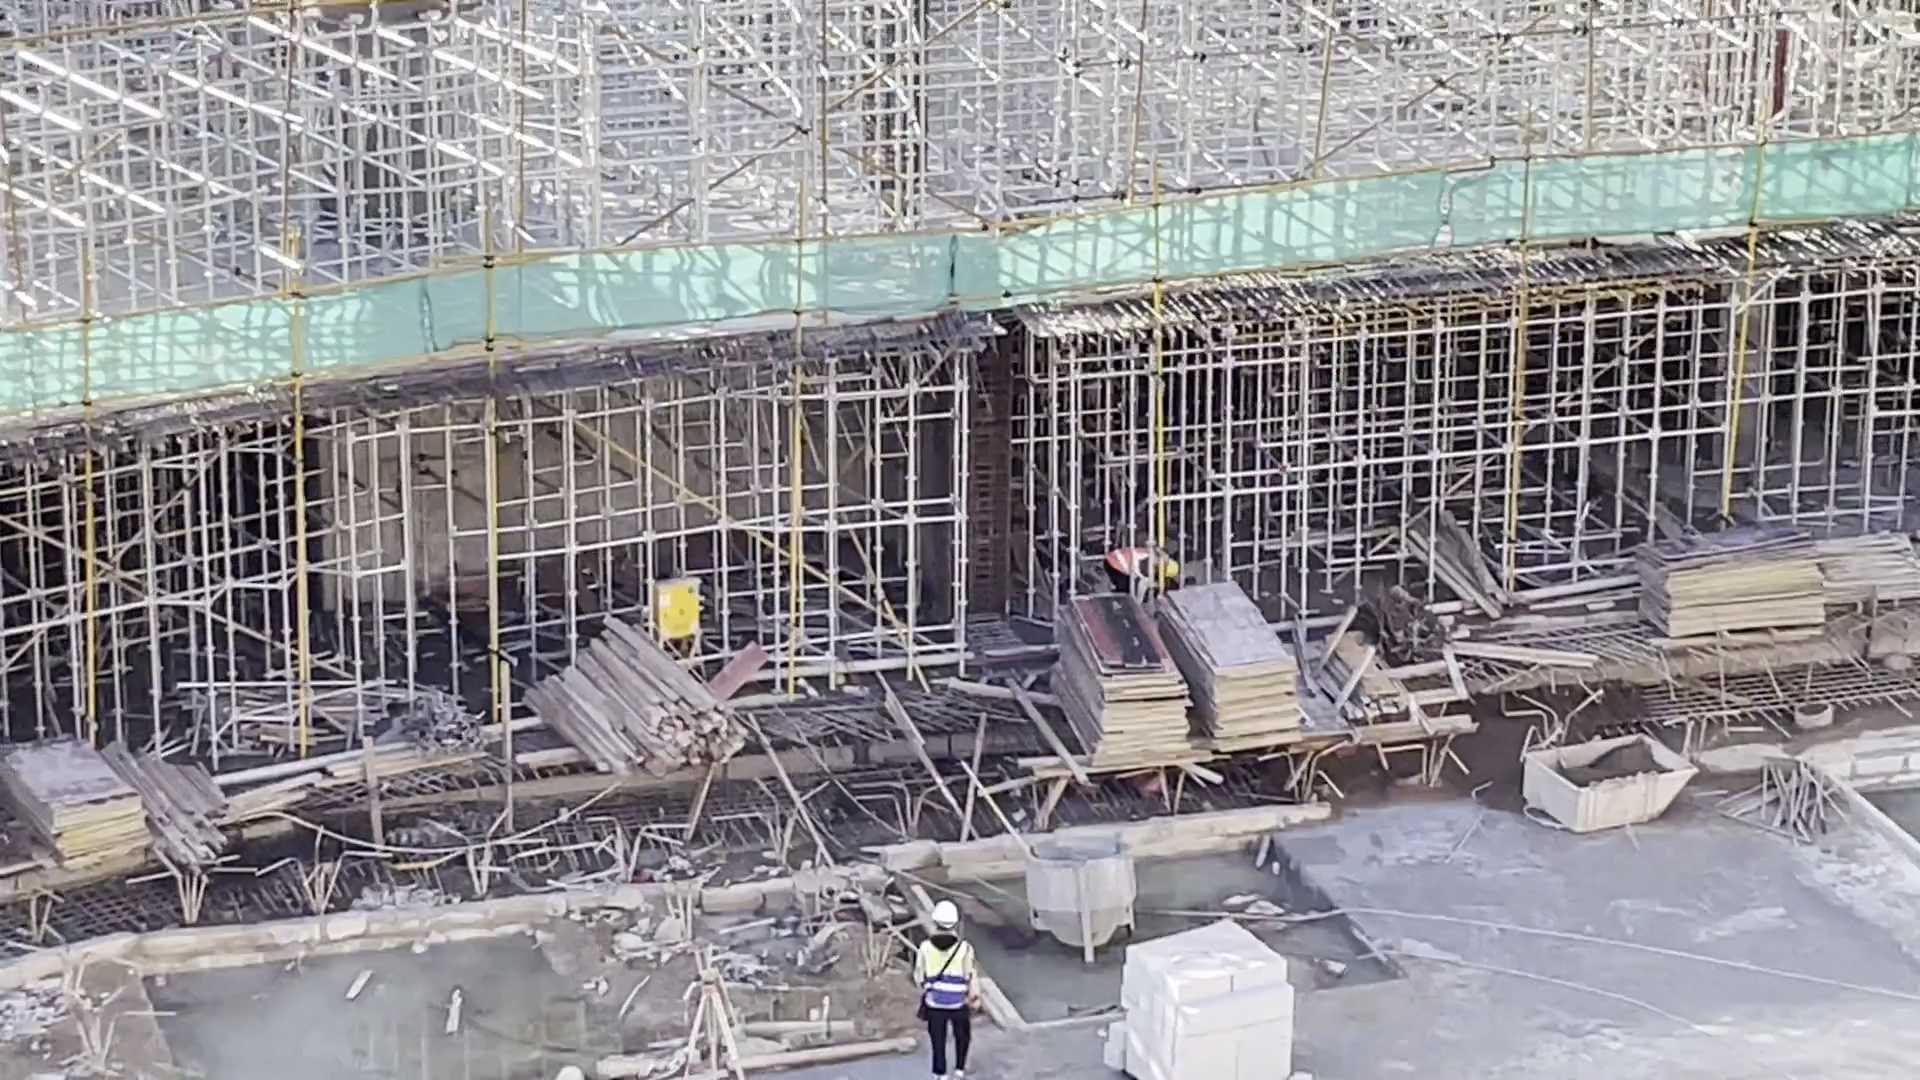board: (1048, 589, 1195, 772), (1163, 579, 1306, 754), (1628, 524, 1836, 642), (4, 732, 154, 880)
brick: (1106, 917, 1292, 1080)
ebox: (654, 574, 700, 643)
helmet: (929, 901, 962, 929), (1165, 556, 1183, 576)
hopper: (1519, 724, 1706, 846), (1021, 830, 1141, 964)
person: (918, 893, 988, 1078)
vest: (919, 935, 973, 1013)
wood: (525, 615, 749, 774), (154, 753, 233, 875)
